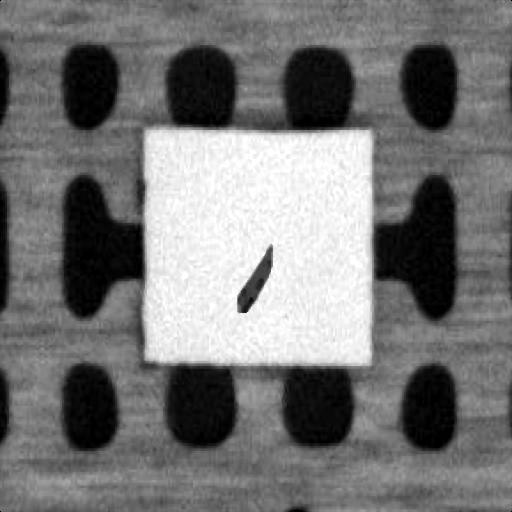DIE_INK: (230, 236, 276, 313)
